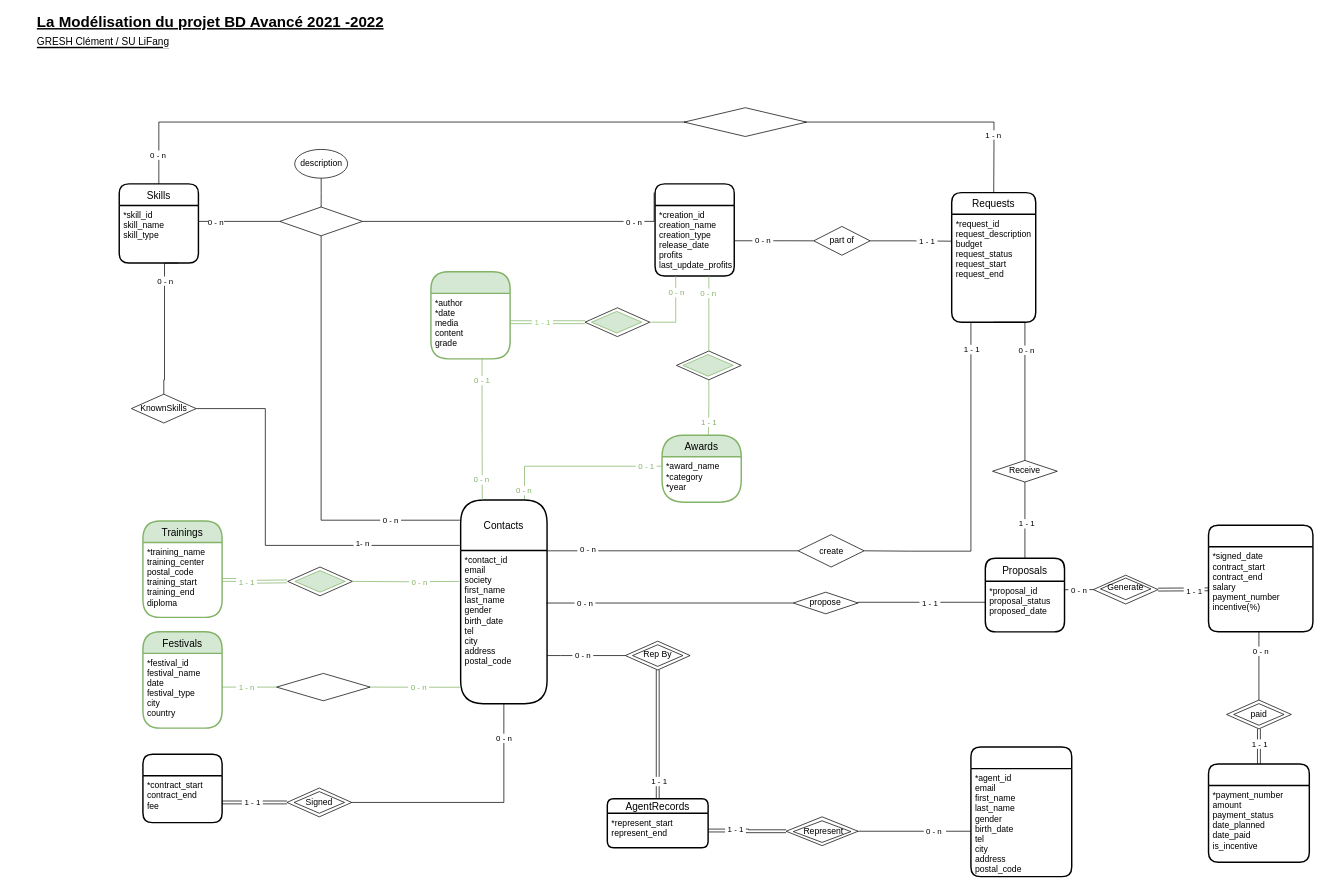
The diagram is 1326 pixels wide and 890 high, and some of its shapes have lost their labels. Each missing label, with the box of its shape:
AgencyContracts: (142, 753, 222, 823)
Agents: (970, 746, 1072, 877)
Creations: (654, 183, 735, 276)
FestivalRecords: (276, 673, 370, 701)
Involvments: (279, 206, 363, 236)
PaymentRecords: (1207, 763, 1310, 863)
ProducerContracts: (1207, 524, 1313, 632)
RequiredSkills: (683, 107, 807, 137)
Reviews: (430, 271, 510, 359)
